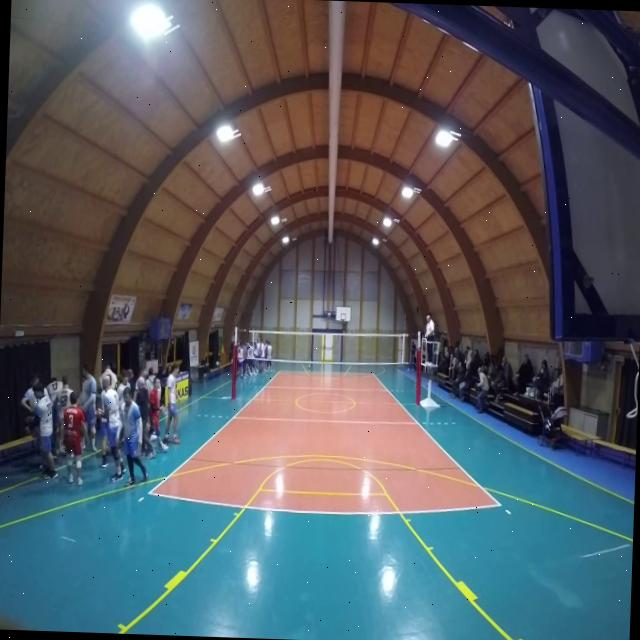Volleyball: (308, 362, 312, 370)
